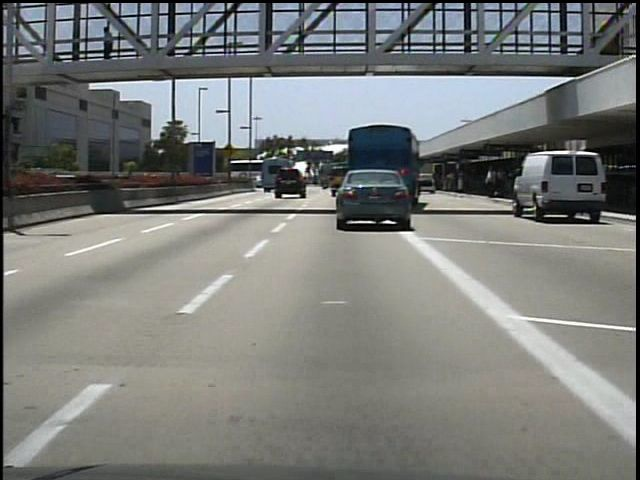person: (100, 24, 122, 71), (486, 163, 501, 198)
